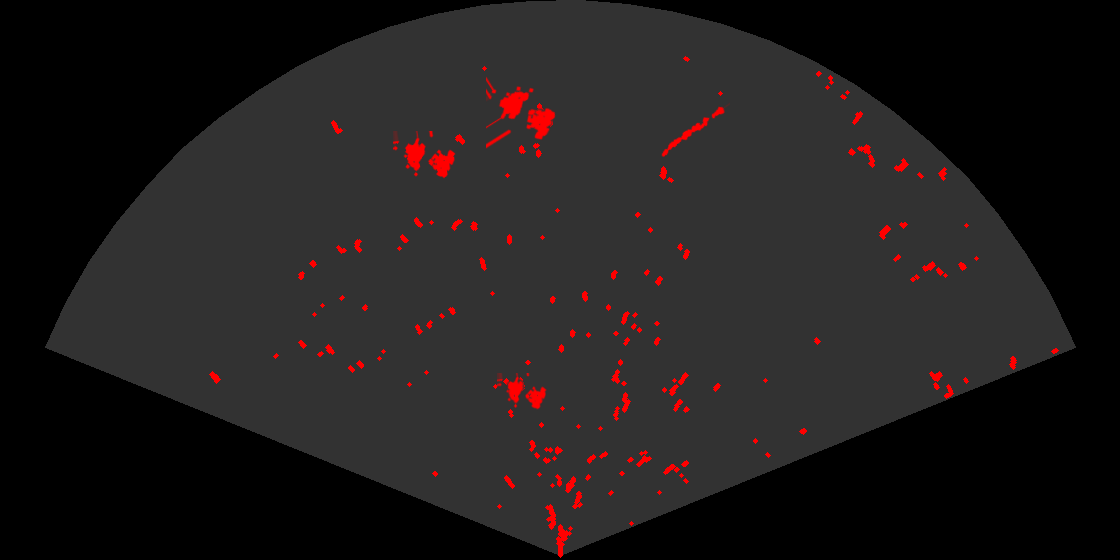cage: (486, 75, 557, 150), (393, 131, 457, 180), (497, 373, 548, 411)
chain: (660, 101, 730, 159)
